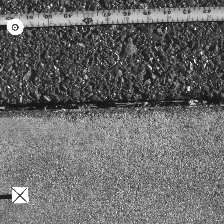circle: (6, 18, 24, 35)
crack: (1, 95, 223, 112)
square: (11, 187, 28, 203)
